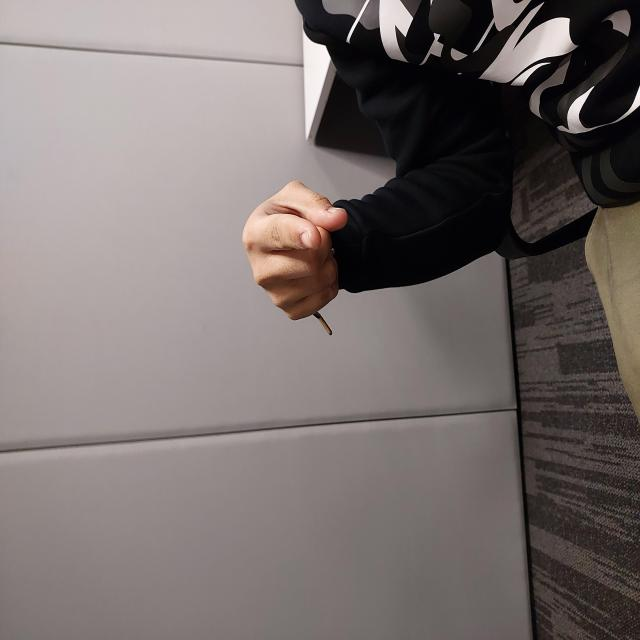Z: (317, 241, 462, 348)
